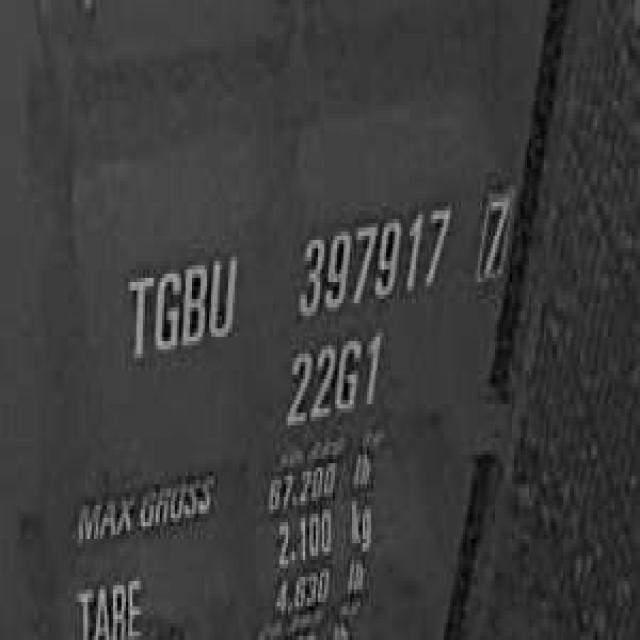dv: (472, 177, 514, 290)
owner: (120, 240, 241, 366)
serial: (290, 198, 455, 324)
size: (279, 328, 382, 429)
